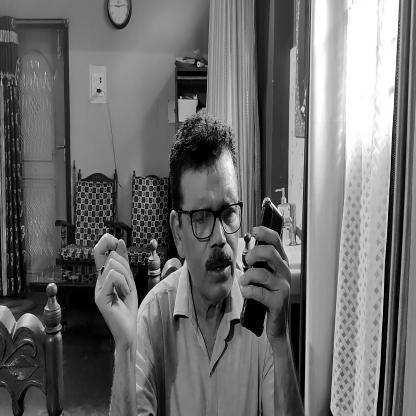Distracted: (166, 117, 244, 308)
